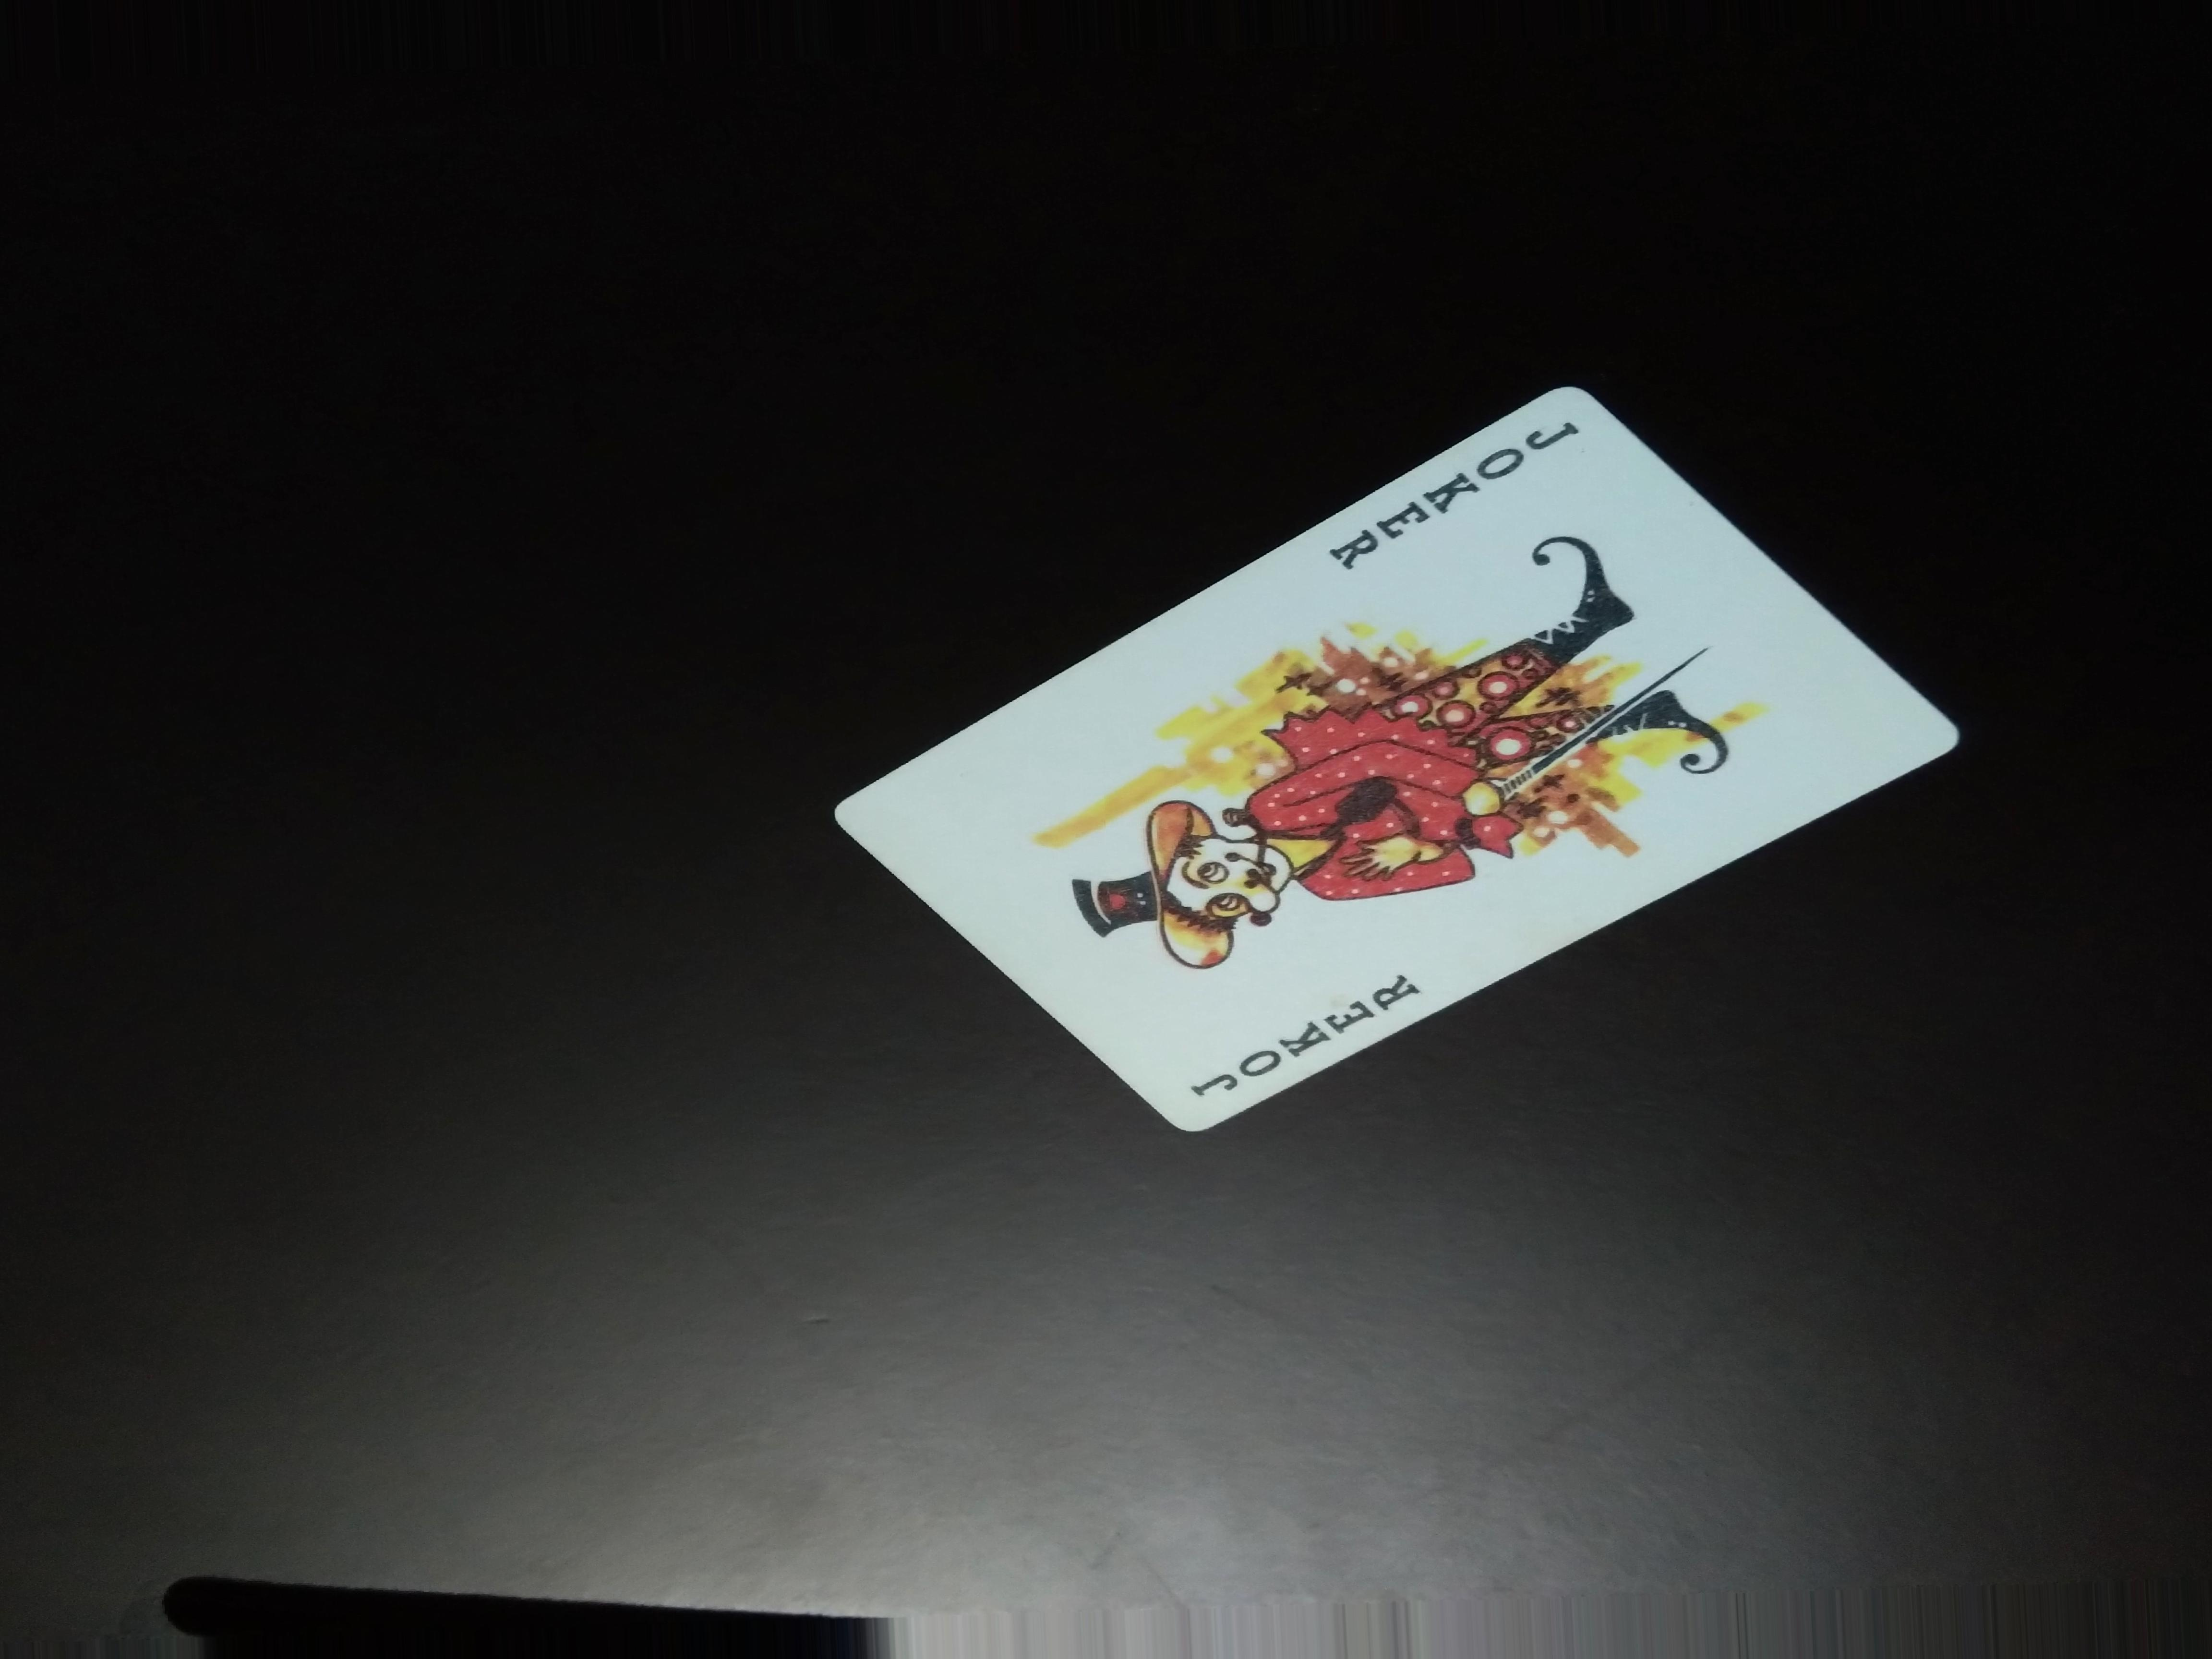JOKER: (1324, 396, 1590, 582)
